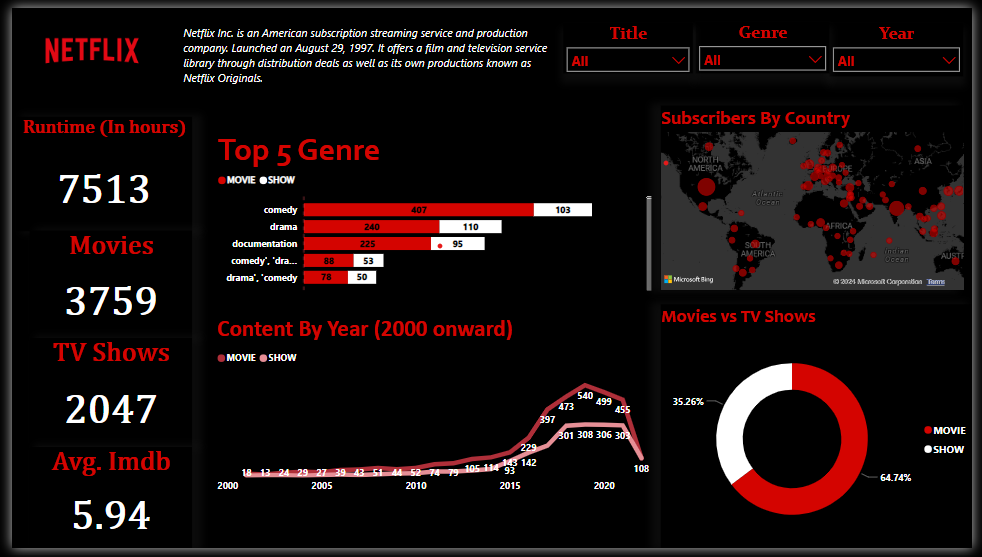

What the dashboard file says about the page in this screenshot:
{"tool":"powerbi","page":{"name":"Page 1","canvas":[1280,720],"ordinal":0},"visuals":[{"type":"barChart","title":"Top 5 Genre","fields":{"Category":["titles.genres"],"Y":["CountNonNull(titles.type)"],"Series":["titles.type"]},"box":[272.9,161.4,580,215.7],"z":0},{"type":"lineChart","title":"Content By Year  (2000 onward)","fields":{"Category":["titles.release_year"],"Y":["CountNonNull(titles.type)"],"Series":["titles.type"]},"box":[272.9,408.6,580,241.4],"z":1000},{"type":"textbox","box":[222.9,18.6,511.4,94.3],"z":2000},{"type":"donutChart","title":"Movies vs TV Shows","fields":{"Category":["titles.type"],"Y":["CountNonNull(titles.type)"]},"box":[864.4,395.1,416.1,325],"z":3000},{"type":"slicer","title":"Year","fields":{"Values":["titles.release_year"]},"box":[1090,20,178.6,71.4],"z":4000},{"type":"slicer","title":"Genre","fields":{"Values":["titles.genres"]},"box":[911.4,18.6,178.6,68.6],"z":5000},{"type":"slicer","title":"Title ","fields":{"Values":["titles.title"]},"box":[734.3,20,172.9,67.1],"z":6000},{"type":"image","box":[0,0,213,113.5],"z":7000},{"type":"card","title":"Runtime (In hours)","fields":{"Values":["titles.Total Runtime"]},"box":[5.6,144.3,235.4,152.7],"z":8000},{"type":"card","title":"Movies","fields":{"Values":["titles.Total Content"]},"box":[23.8,297,217.2,142.9],"z":9000},{"type":"card","title":"TV Shows","fields":{"Values":["titles.Total Content"]},"box":[23.8,439.9,217.2,144.3],"z":10000},{"type":"card","title":"Avg. Imdb","fields":{"Values":["Avg(titles.imdb_score)"]},"box":[23.8,584.2,217.2,135.9],"z":11000},{"type":"map","title":"Subscribers By Country","fields":{"Category":["titles.production_countries"],"Size":["titles.Total Runtime"]},"box":[864.4,130.3,403.5,246],"z":12000}]}

Visuals, with their boxes in screenshot pixels (x1, y1, x2, y2), scaled from the page's 1280x720 canvas onto the 982x557 screenshot:
"Top 5 Genre" barChart: 209:125:654:292
"Content By Year  (2000 onward)" lineChart: 209:316:654:503
textbox: 171:14:563:87
"Movies vs TV Shows" donutChart: 663:306:981:556
"Year" slicer: 836:15:973:71
"Genre" slicer: 699:14:836:67
"Title " slicer: 563:15:696:67
image: 0:0:163:88
"Runtime (In hours)" card: 4:112:185:230
"Movies" card: 18:230:185:340
"TV Shows" card: 18:340:185:452
"Avg. Imdb" card: 18:452:185:556
"Subscribers By Country" map: 663:101:973:291
